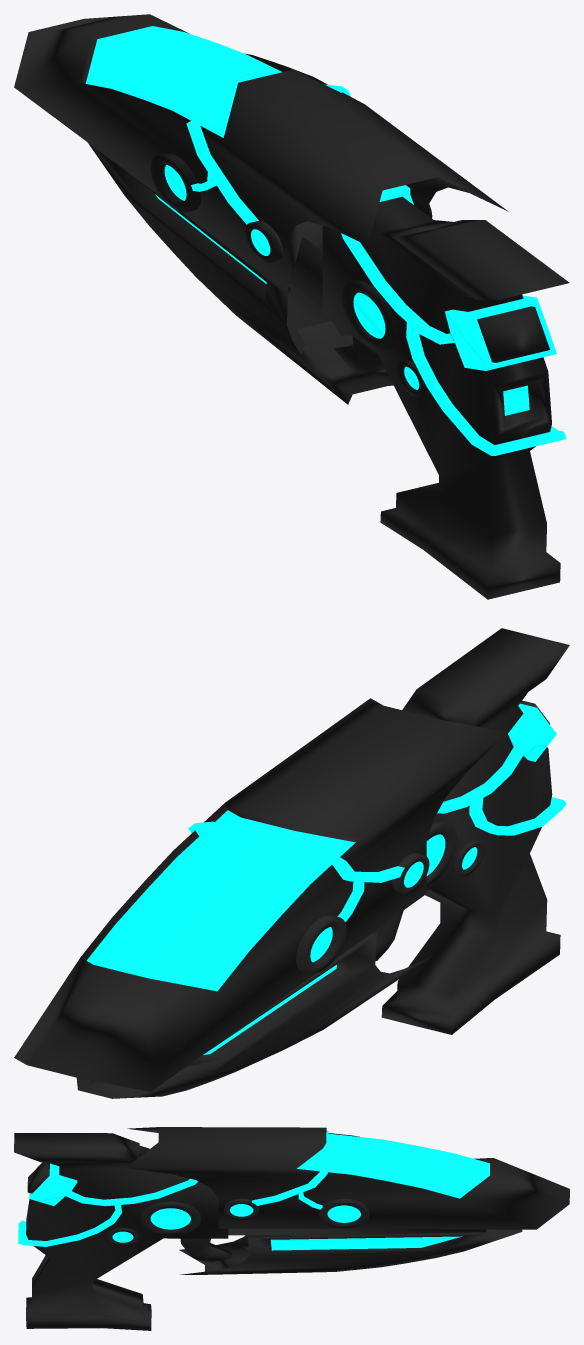
Rendered from TronGun.fbx.
3 renders of one model, top to bottom at view 1: azimuth 30°, elevation 25°; view 2: azimuth 150°, elevation 25°; view 3: azimuth 270°, elevation 25°, orthographic. The views are drawn at different scales.
Parts seen in each view (by area): view 1: Cube; view 2: Cube; view 3: Cube.
Part boxes in pixels (x1,y1,x2,y2): Cube: (14, 14, 569, 599); Cube: (14, 628, 569, 1098); Cube: (14, 1127, 569, 1330).
Bounding box in the file's own units: 0.5965 × 1.18 × 3.18.
